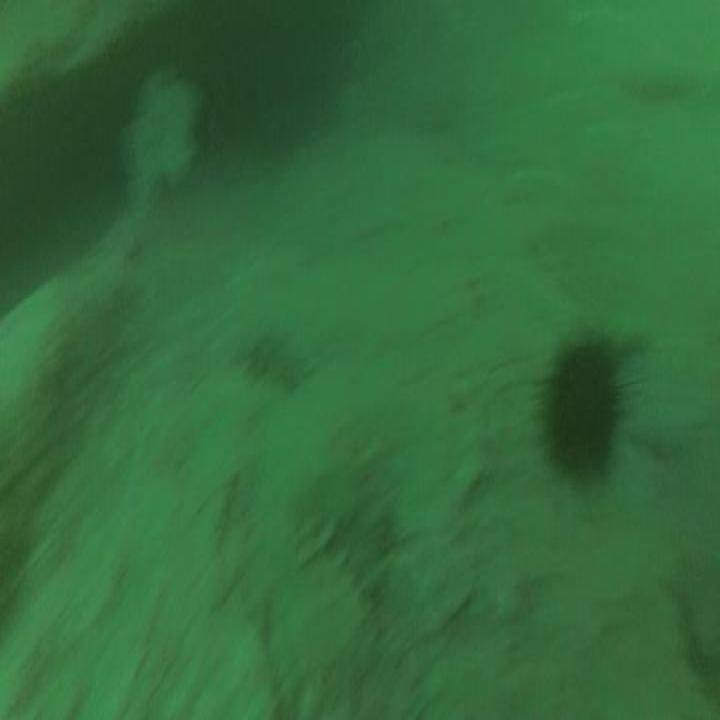echinus: (538, 325, 620, 491)
